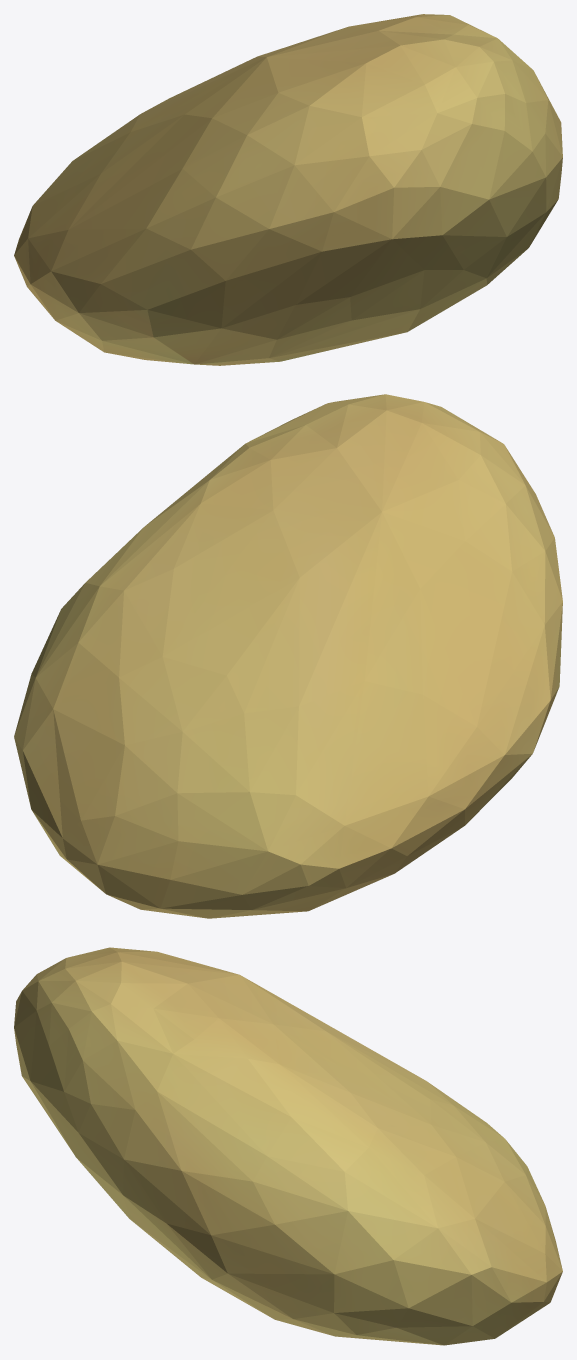
File: node_lymph_colic_R_LP.glb
3 renders of one model, top to bottom at view 1: azimuth 30°, elevation 25°; view 2: azimuth 150°, elevation 25°; view 3: azimuth 270°, elevation 25°, orthographic. The views are drawn at different scales.
Parts seen in each view (by area): view 1: node_lymph_colic_R_LP; view 2: node_lymph_colic_R_LP; view 3: node_lymph_colic_R_LP.
Boxes of the visible parts, bbox=[...] form: node_lymph_colic_R_LP: bbox=[14, 14, 562, 365]; node_lymph_colic_R_LP: bbox=[14, 394, 562, 918]; node_lymph_colic_R_LP: bbox=[14, 947, 562, 1345].
Size of the model in its own units: 0.000202 by 0.00016 by 0.000233.
Materials: 1 (1 with a texture image).
